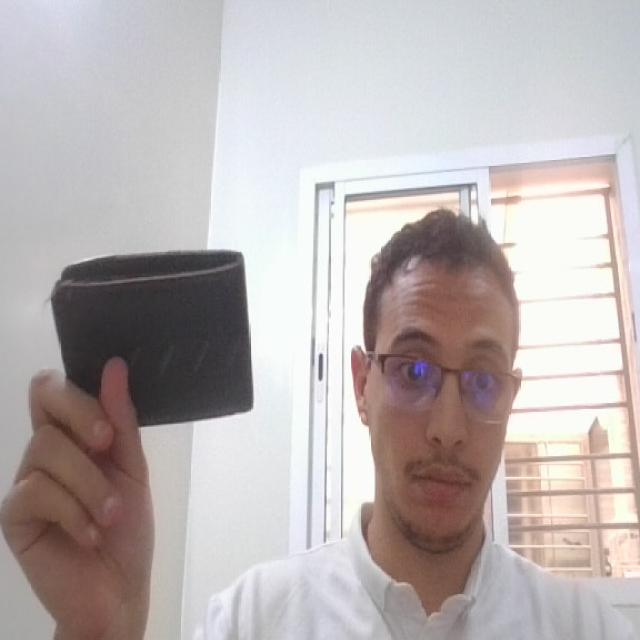wallet: (45, 245, 266, 433)
